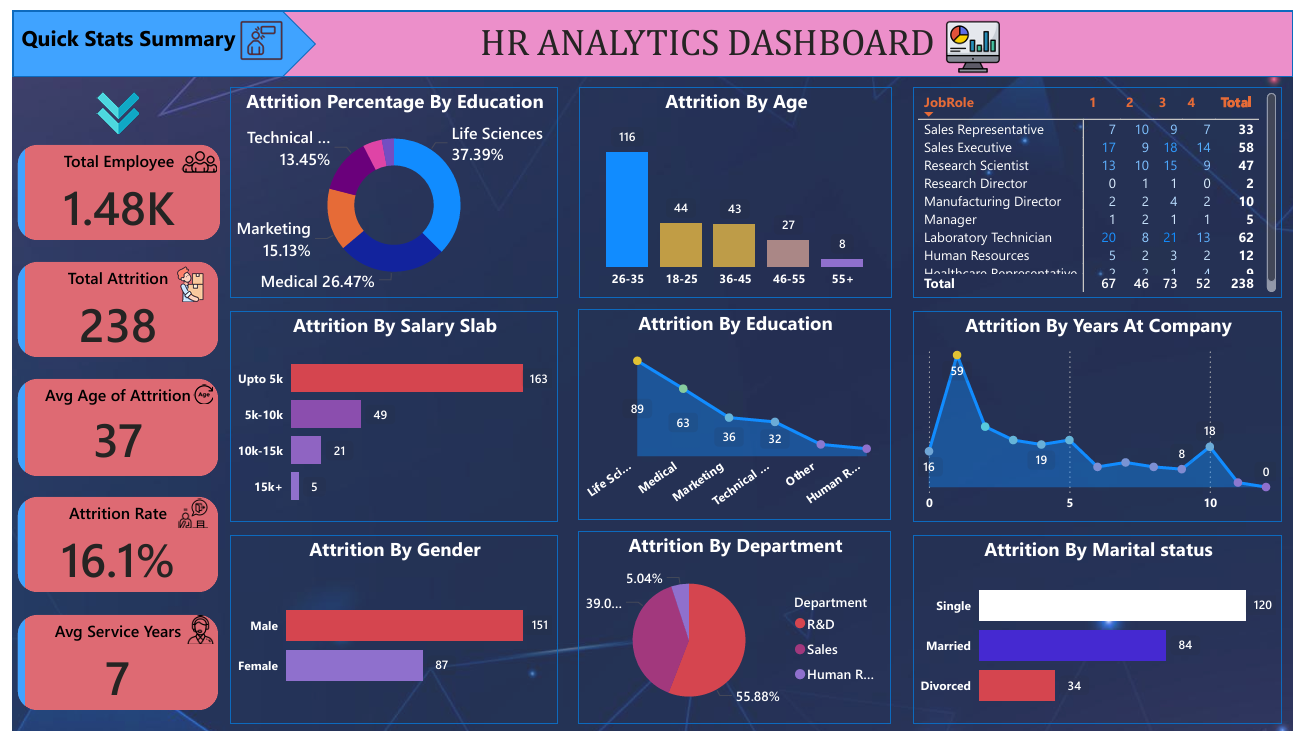

What the dashboard file says about the page in this screenshot:
{"tool":"powerbi","page":{"name":"Page 1","canvas":[1280,720],"ordinal":0},"visuals":[{"type":"cardVisual","title":"Count of Employee","fields":{"Data":["CountNonNull(HR_Analytics.EmpID)"]},"box":[0,128.6,212.9,115.7],"z":0},{"type":"cardVisual","title":"Count of Employee","fields":{"Data":["Sum(HR_Analytics.AttritionCount)"]},"box":[0,245.7,210,115.7],"z":1000},{"type":"cardVisual","title":"Count of Employee","fields":{"Data":["Avg(HR_Analytics.Age)"]},"box":[0,362.9,210,117.1],"z":2000},{"type":"cardVisual","title":"Count of Employee","fields":{"Data":["HR_Analytics.AttritionRate"]},"box":[0,481.4,210,115.7],"z":3000},{"type":"cardVisual","title":"Count of Employee","fields":{"Data":["Avg(HR_Analytics.YearsAtCompany)"]},"box":[0,598.6,210,115.7],"z":4000},{"type":"donutChart","title":"Attrition Percentage By Education","fields":{"Category":["HR_Analytics.EducationField"],"Y":["Sum(HR_Analytics.AttritionCount)"]},"box":[216.6,76.1,328,211.3],"z":5000},{"type":"columnChart","title":"Attrition By Age","fields":{"Category":["HR_Analytics.AgeGroup"],"Y":["Sum(HR_Analytics.AttritionCount)"]},"box":[565.9,76.1,312.9,211.3],"z":6000},{"type":"pivotTable","fields":{"Rows":["HR_Analytics.JobRole"],"Columns":["HR_Analytics.JobSatisfaction"],"Values":["Sum(HR_Analytics.AttritionCount)"]},"box":[900,76.1,369.1,211.3],"z":7000},{"type":"barChart","title":"Attrition By Salary Slab","fields":{"Category":["HR_Analytics.SalarySlab"],"Y":["Sum(HR_Analytics.AttritionCount)"]},"box":[216.6,299.9,328,211.3],"z":8000},{"type":"stackedAreaChart","title":"Attrition By Education","fields":{"Category":["HR_Analytics.EducationField"],"Y":["Sum(HR_Analytics.AttritionCount)"]},"box":[565.2,297.9,312.9,211.3],"z":9000},{"type":"areaChart","title":"Attrition By Years At Company","fields":{"Category":["HR_Analytics.YearsAtCompany"],"Y":["Sum(HR_Analytics.AttritionCount)"]},"box":[900,299.9,369.1,211.3],"z":10000},{"type":"barChart","title":"Attrition By Gender","fields":{"Y":["Sum(HR_Analytics.AttritionCount)"],"Category":["HR_Analytics.Gender"]},"box":[216.6,523.7,328,189.4],"z":11000},{"type":"pieChart","title":"Attrition By Department","fields":{"Category":["HR_Analytics.Department"],"Y":["Sum(HR_Analytics.AttritionCount)"]},"box":[565.2,519.6,312.9,193.5],"z":12000},{"type":"barChart","title":"Attrition By Marital status","fields":{"Y":["Sum(HR_Analytics.AttritionCount)"],"Category":["HR_Analytics.MaritalStatus"]},"box":[900,523.7,369.1,189.4],"z":13000},{"type":"shape","box":[0,0,1280,65.7],"z":14000},{"type":"shape","box":[0,0,302.9,65.7],"z":15000},{"type":"textbox","box":[0,7.1,231.4,51.4],"z":16000},{"type":"image","box":[77.1,75.7,55.7,52.9],"z":17000},{"type":"textbox","box":[380,7.1,628.6,65.7],"z":18000},{"type":"image","box":[927.1,1.4,65.7,68.6],"z":19000},{"type":"image","box":[212.9,0,70,58.6],"z":20000},{"type":"image","box":[164.3,124.3,45.7,52.9],"z":21000},{"type":"image","box":[154.3,247.1,47.1,51.4],"z":22000},{"type":"image","box":[175.7,364.3,30,40],"z":23000},{"type":"image","box":[161.4,482.9,40,40],"z":24000},{"type":"image","box":[167.1,600,40,38.6],"z":25000}]}

Visuals, with their boxes in screenshot pixels (x1, y1, x2, y2), scaled from the page's 1280x720 canvas onto the 1301x748 screenshot:
"Count of Employee" cardVisual: <box>0,134,216,254</box>
"Count of Employee" cardVisual: <box>0,255,213,375</box>
"Count of Employee" cardVisual: <box>0,377,213,499</box>
"Count of Employee" cardVisual: <box>0,500,213,620</box>
"Count of Employee" cardVisual: <box>0,622,213,742</box>
"Attrition Percentage By Education" donutChart: <box>220,79,554,299</box>
"Attrition By Age" columnChart: <box>575,79,893,299</box>
pivotTable - HR_Analytics.JobRole x HR_Analytics.JobSatisfaction: <box>915,79,1290,299</box>
"Attrition By Salary Slab" barChart: <box>220,312,554,531</box>
"Attrition By Education" stackedAreaChart: <box>574,309,893,529</box>
"Attrition By Years At Company" areaChart: <box>915,312,1290,531</box>
"Attrition By Gender" barChart: <box>220,544,554,741</box>
"Attrition By Department" pieChart: <box>574,540,893,741</box>
"Attrition By Marital status" barChart: <box>915,544,1290,741</box>
shape: <box>0,0,1300,68</box>
shape: <box>0,0,308,68</box>
textbox: <box>0,7,235,61</box>
image: <box>78,79,135,134</box>
textbox: <box>386,7,1025,76</box>
image: <box>942,1,1009,73</box>
image: <box>216,0,288,61</box>
image: <box>167,129,213,184</box>
image: <box>157,257,205,310</box>
image: <box>179,378,209,420</box>
image: <box>164,502,205,543</box>
image: <box>170,623,210,663</box>
